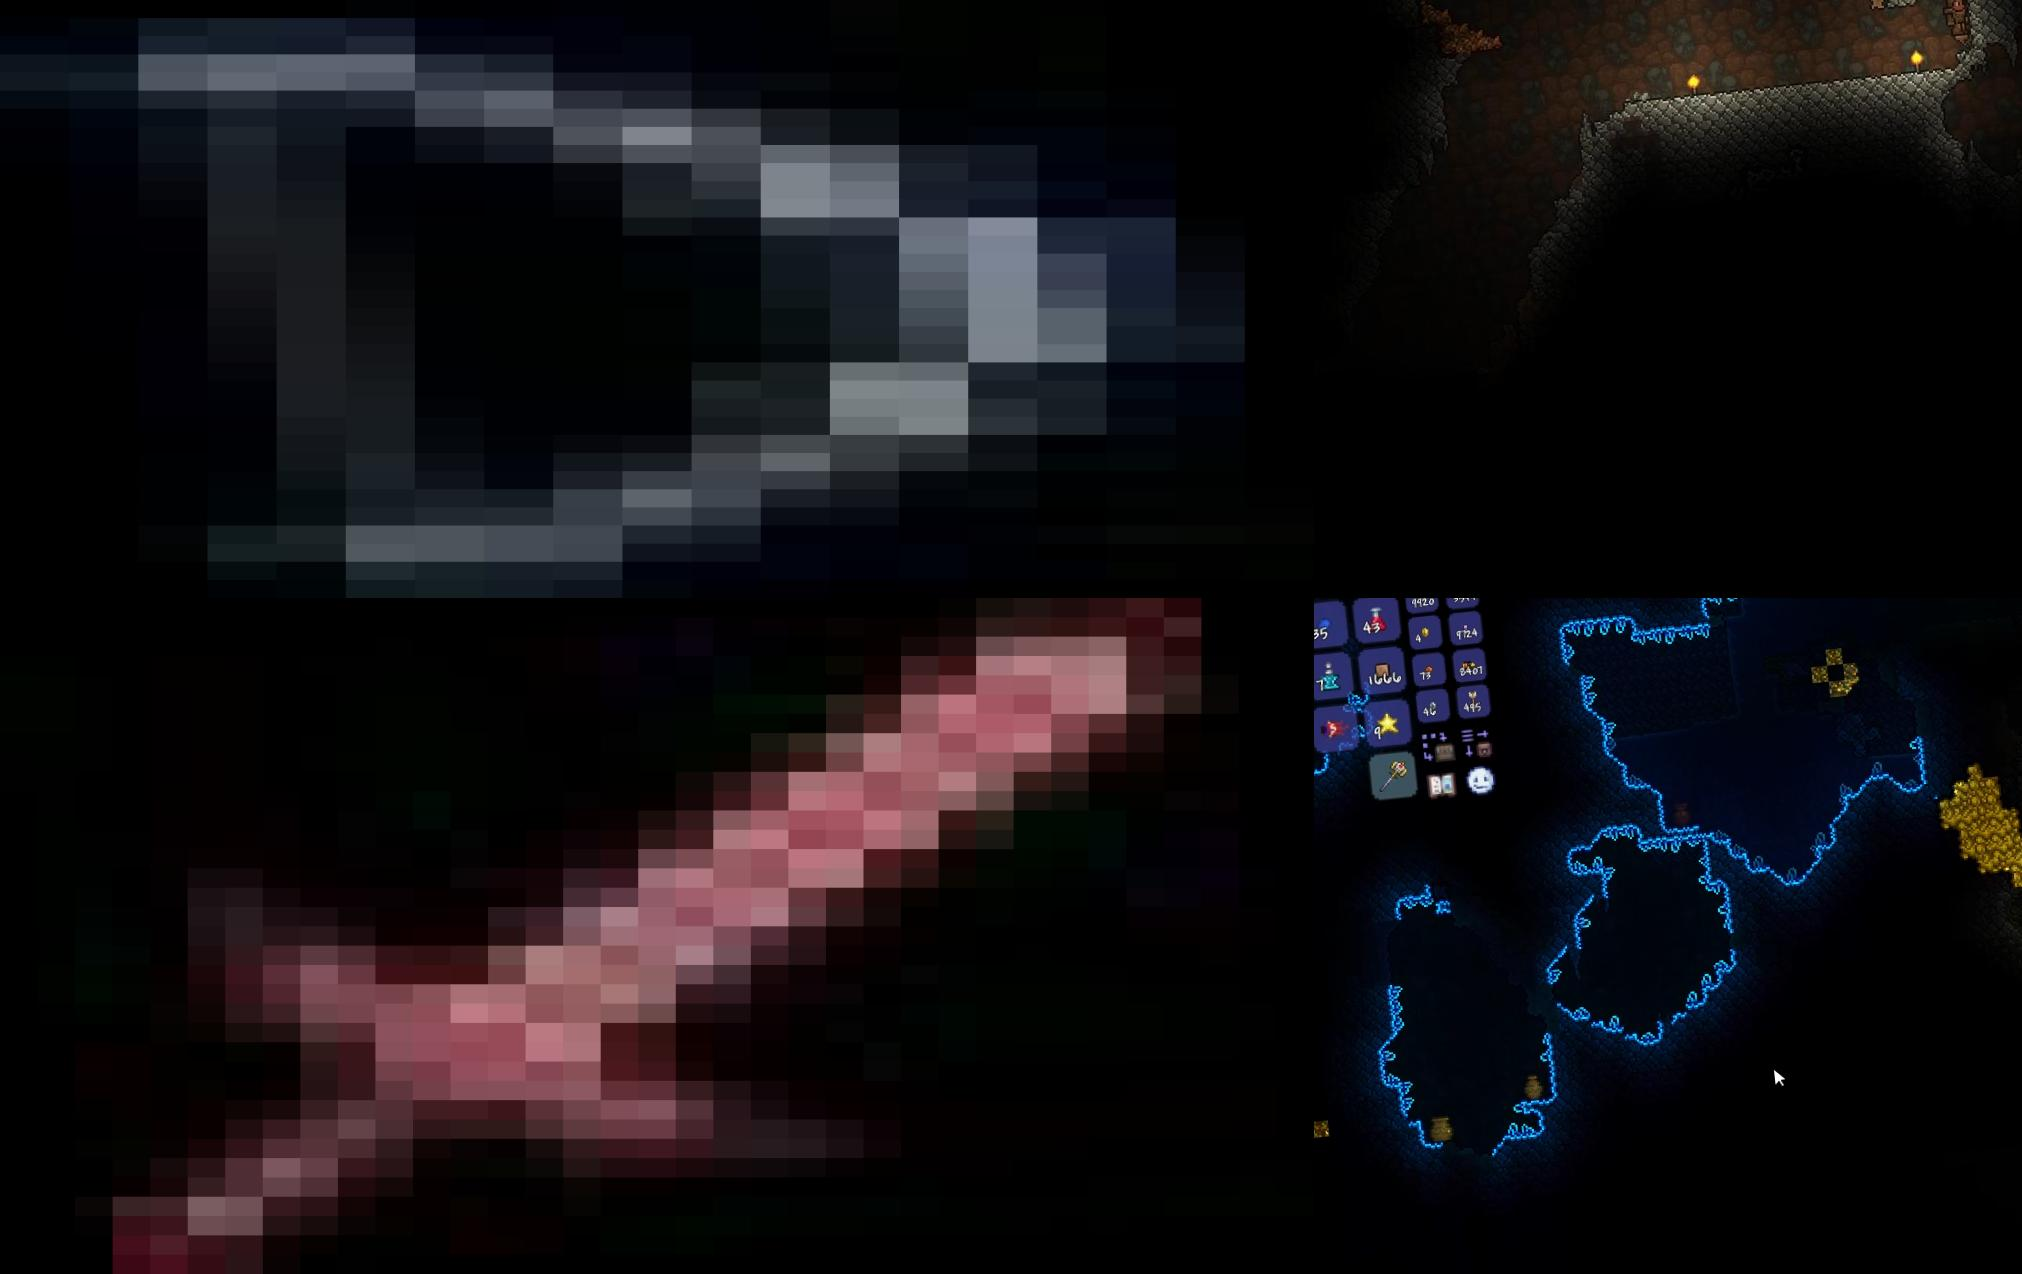bow: (0, 0, 1313, 597)
eye: (1316, 709, 1350, 744)
sword: (0, 597, 1313, 1274)
